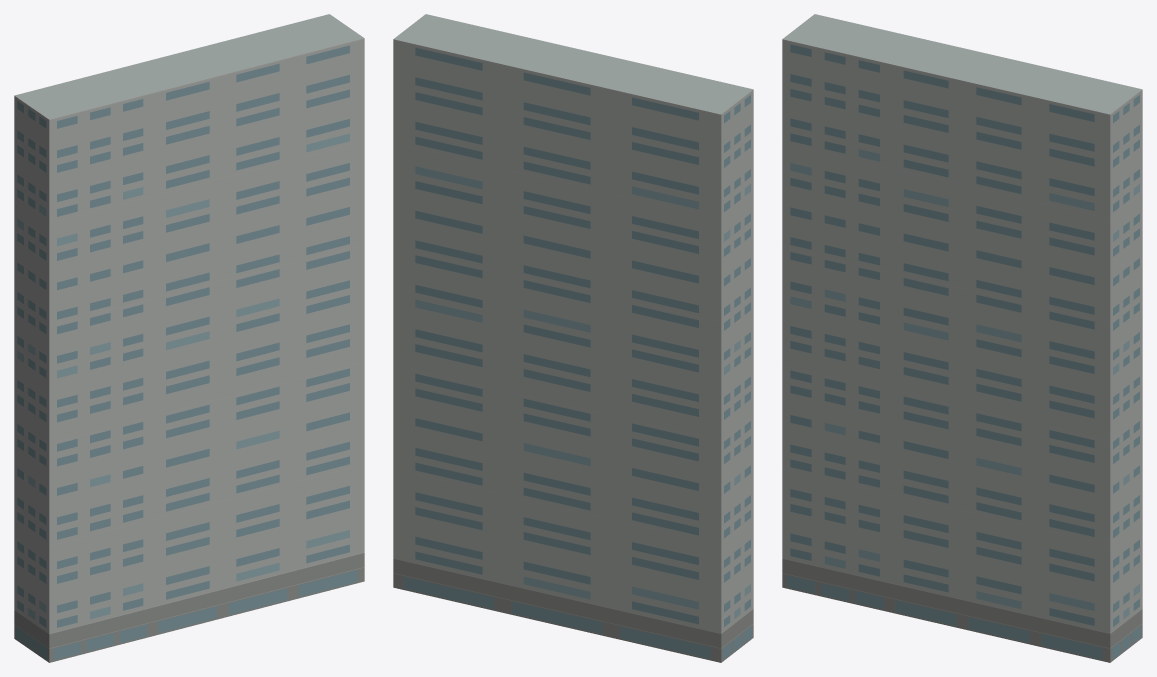
File: residential-ceba6478-003f-47c2-89f9-6d8779a9218d.glb
3 views of the same model, side by side, from view 1: azimuth 30°, elevation 25°; view 2: azimuth 150°, elevation 25°; view 3: azimuth 330°, elevation 25° (orthographic).
Parts seen in each view (by area): view 1: residential-ceba6478-003f-47c2-89f9-6d8779a9218d.tmp; view 2: residential-ceba6478-003f-47c2-89f9-6d8779a9218d.tmp; view 3: residential-ceba6478-003f-47c2-89f9-6d8779a9218d.tmp.
Part boxes in pixels (x1,y1,x2,y2): residential-ceba6478-003f-47c2-89f9-6d8779a9218d.tmp: [14, 14, 364, 662]; residential-ceba6478-003f-47c2-89f9-6d8779a9218d.tmp: [393, 14, 753, 662]; residential-ceba6478-003f-47c2-89f9-6d8779a9218d.tmp: [782, 14, 1142, 662].
Size of the model in its own units: 73.14 by 118 by 15.15.
